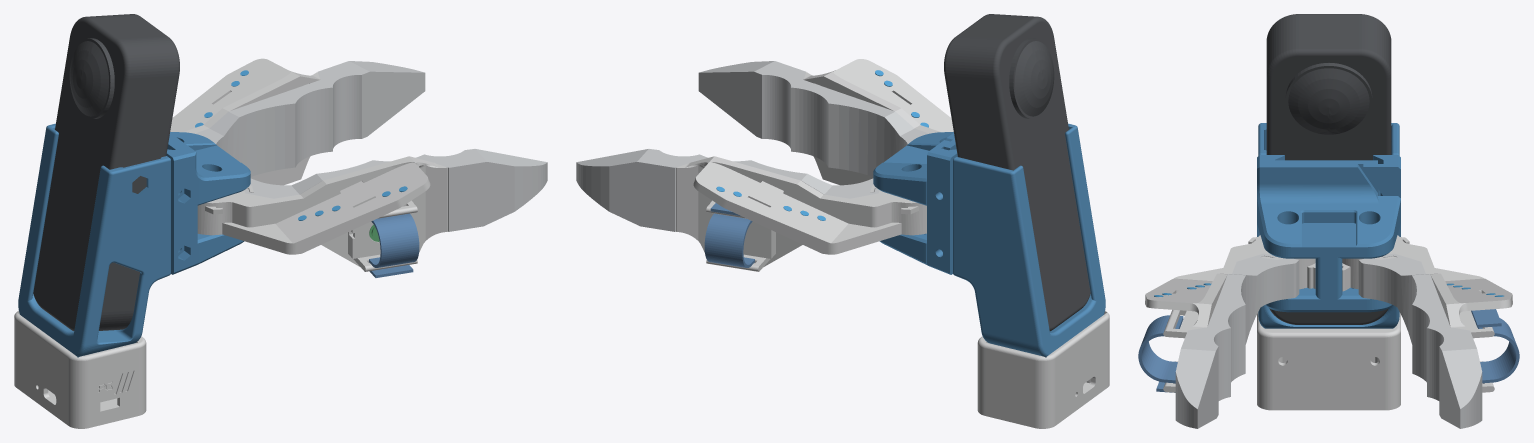
The model's file is chopstick_right.glb.
The picture shows the model from 3 angles, left to right: view 1: azimuth 30°, elevation 25°; view 2: azimuth 150°, elevation 25°; view 3: azimuth 270°, elevation 25°; orthographic projection. The views are drawn at different scales.
Visible parts, largest first — view 1: insta360_x5_envelope, x5_lite_frame, jaw_right_dc_button, tip_tpu_left, pg_pod, tip_tpu_right, chopstick_base_dc, jaw_left_dc, sleeve_strap_right, pg_pod_lid; view 2: insta360_x5_envelope, x5_lite_frame, jaw_left_dc, tip_tpu_right, pg_pod, tip_tpu_left, jaw_right_dc_button, chopstick_base_dc, chopstick_clip_dc, sleeve_strap_left, pg_pod_lid; view 3: insta360_x5_envelope, chopstick_base_dc, pg_pod, tip_tpu_right, tip_tpu_left, jaw_right_dc_button, jaw_left_dc, x5_lite_frame, sleeve_strap_left, sleeve_strap_right, chopstick_clip_dc, pg_pod_lid.
Part boxes in pixels (box(x1,y1,x2,y2)): insta360_x5_envelope: box(33, 14, 179, 331); x5_lite_frame: box(18, 123, 170, 357); jaw_right_dc_button: box(197, 156, 447, 271); tip_tpu_left: box(195, 61, 425, 176); pg_pod: box(14, 310, 146, 424); tip_tpu_right: box(244, 149, 547, 231); chopstick_base_dc: box(166, 132, 250, 274); jaw_left_dc: box(170, 58, 320, 185); sleeve_strap_right: box(369, 213, 419, 277); pg_pod_lid: box(14, 381, 146, 428); insta360_x5_envelope: box(944, 14, 1090, 331); x5_lite_frame: box(953, 123, 1105, 357); jaw_left_dc: box(676, 156, 926, 271); tip_tpu_right: box(698, 61, 928, 176); pg_pod: box(977, 310, 1109, 424); tip_tpu_left: box(576, 149, 879, 231); jaw_right_dc_button: box(803, 59, 953, 185); chopstick_base_dc: box(873, 132, 956, 265); chopstick_clip_dc: box(927, 140, 957, 274); sleeve_strap_left: box(704, 203, 754, 267); pg_pod_lid: box(977, 381, 1109, 428); insta360_x5_envelope: box(1266, 14, 1391, 324); chopstick_base_dc: box(1257, 155, 1400, 312); pg_pod: box(1257, 312, 1400, 405); tip_tpu_right: box(1175, 253, 1299, 428); tip_tpu_left: box(1358, 253, 1482, 428); jaw_right_dc_button: box(1145, 235, 1315, 392); jaw_left_dc: box(1342, 235, 1512, 392); x5_lite_frame: box(1258, 123, 1399, 328); sleeve_strap_left: box(1471, 309, 1519, 383); sleeve_strap_right: box(1138, 315, 1183, 392); chopstick_clip_dc: box(1363, 155, 1400, 236); pg_pod_lid: box(1257, 400, 1400, 410).
Size of the model in its own units: 0.2032 by 0.1583 by 0.1405.
